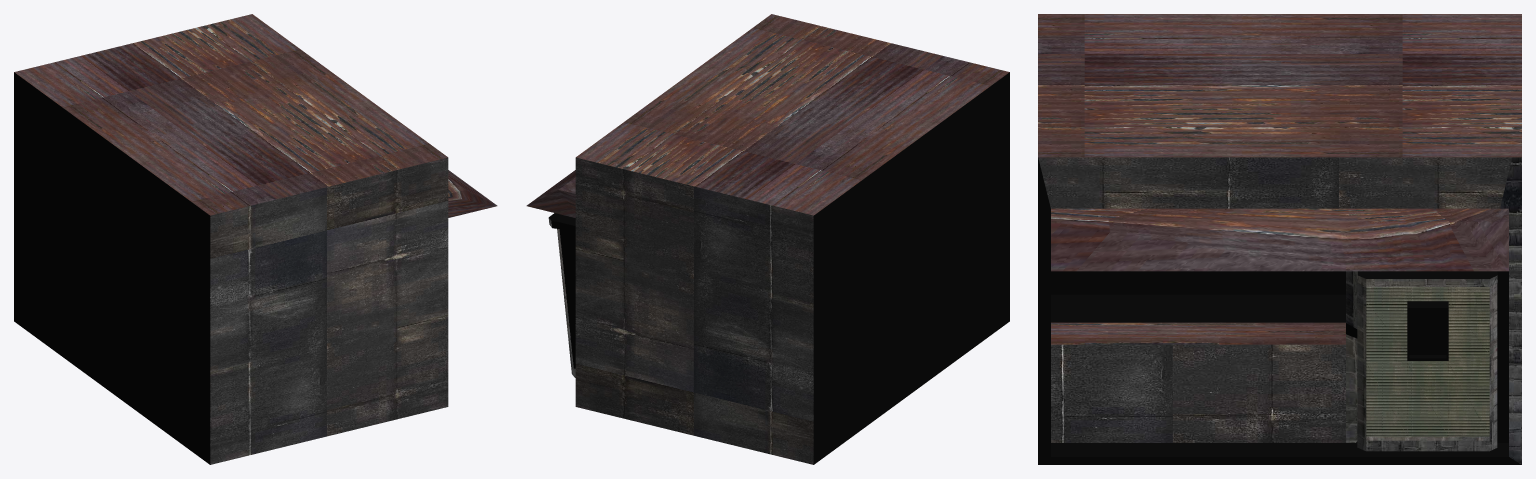
File: house.glb
3 renders of one model, left to right at view 1: azimuth 30°, elevation 25°; view 2: azimuth 150°, elevation 25°; view 3: azimuth 270°, elevation 25°, orthographic. The views are drawn at different scales.
Parts seen in each view (by area): view 1: Cube; view 2: Cube; view 3: Cube.
Boxes of the visible parts, x1=… form: Cube: x1=14, y1=14, x2=497, y2=464; Cube: x1=526, y1=14, x2=1009, y2=464; Cube: x1=1038, y1=14, x2=1521, y2=464.
Size of the model in its own units: 3.23 by 2.63 by 3.74.
6 materials, 4 textured.
